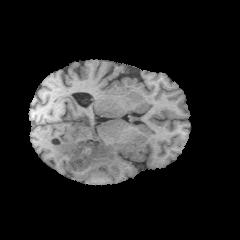glioma: (51, 131, 136, 179)
